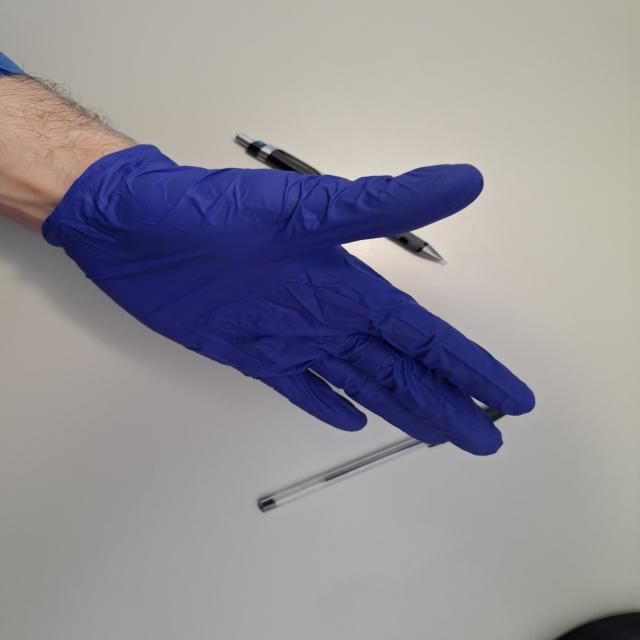glove_on: (43, 142, 544, 460)
